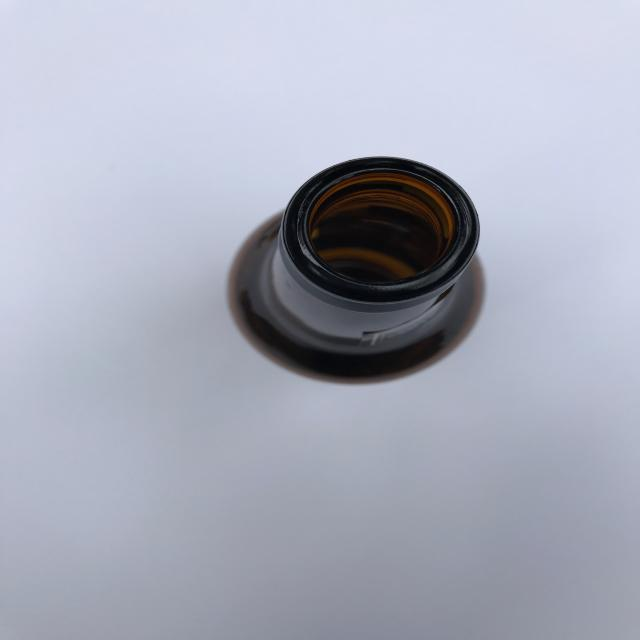glass: (226, 156, 491, 387)
